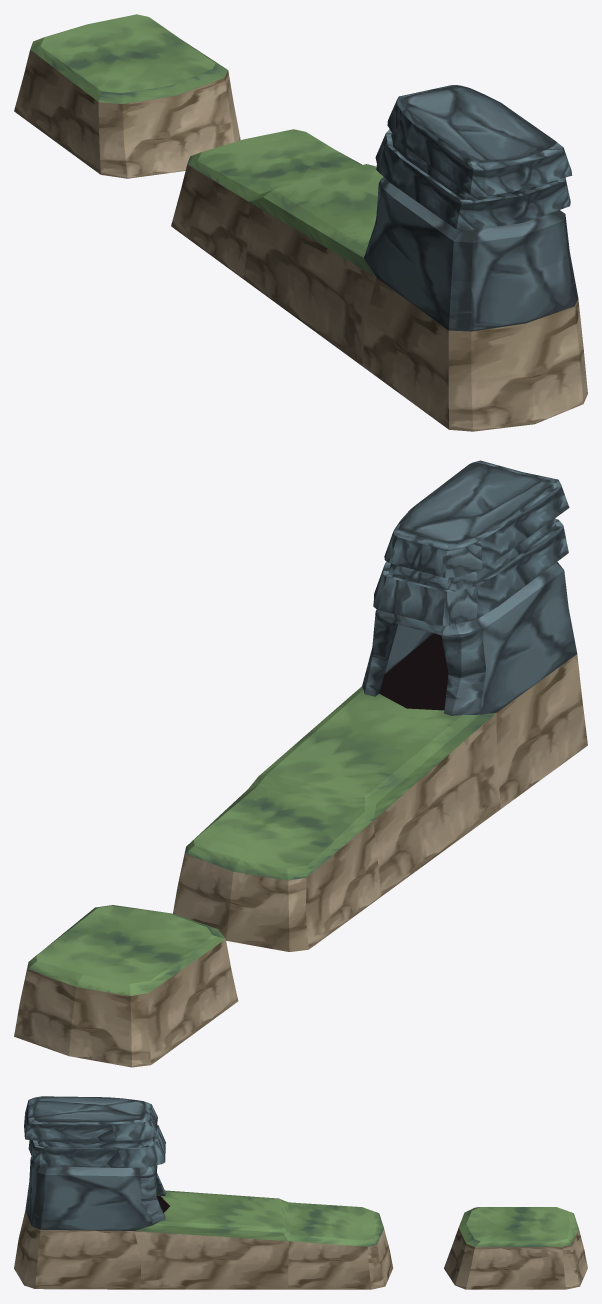
File: level1-2.fbx
The picture shows the model from 3 angles, top to bottom: view 1: azimuth 30°, elevation 25°; view 2: azimuth 150°, elevation 25°; view 3: azimuth 270°, elevation 25°; orthographic projection. The views are drawn at different scales.
Visible parts, largest first — view 1: 立方體; view 2: 立方體; view 3: 立方體.
Boxes of the visible parts, bbox=[...] form: 立方體: bbox=[14, 14, 587, 431]; 立方體: bbox=[14, 460, 587, 1067]; 立方體: bbox=[14, 1096, 587, 1289].
Bounding box in the file's own units: 799 × 1400 × 4567.
Materials: 3 (2 with a texture image).
